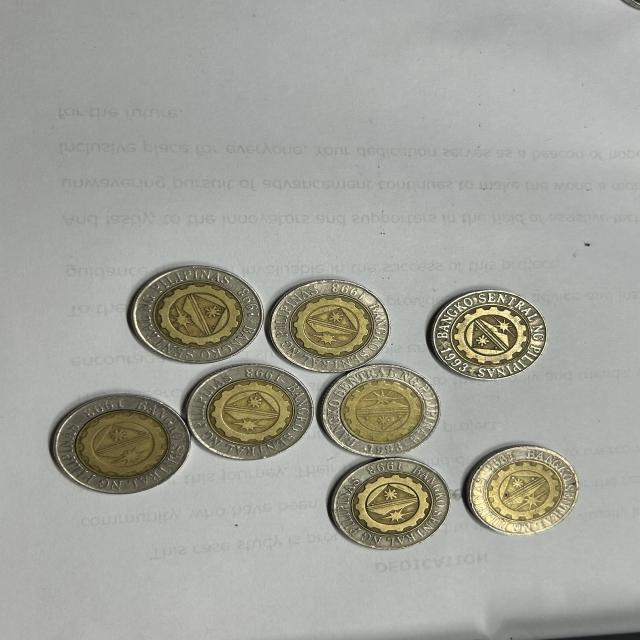10_Old_Back: (58, 392, 186, 485), (127, 271, 253, 357), (272, 279, 383, 369), (194, 366, 305, 454), (440, 282, 542, 377), (332, 460, 442, 546), (331, 368, 437, 443), (476, 450, 571, 530)
